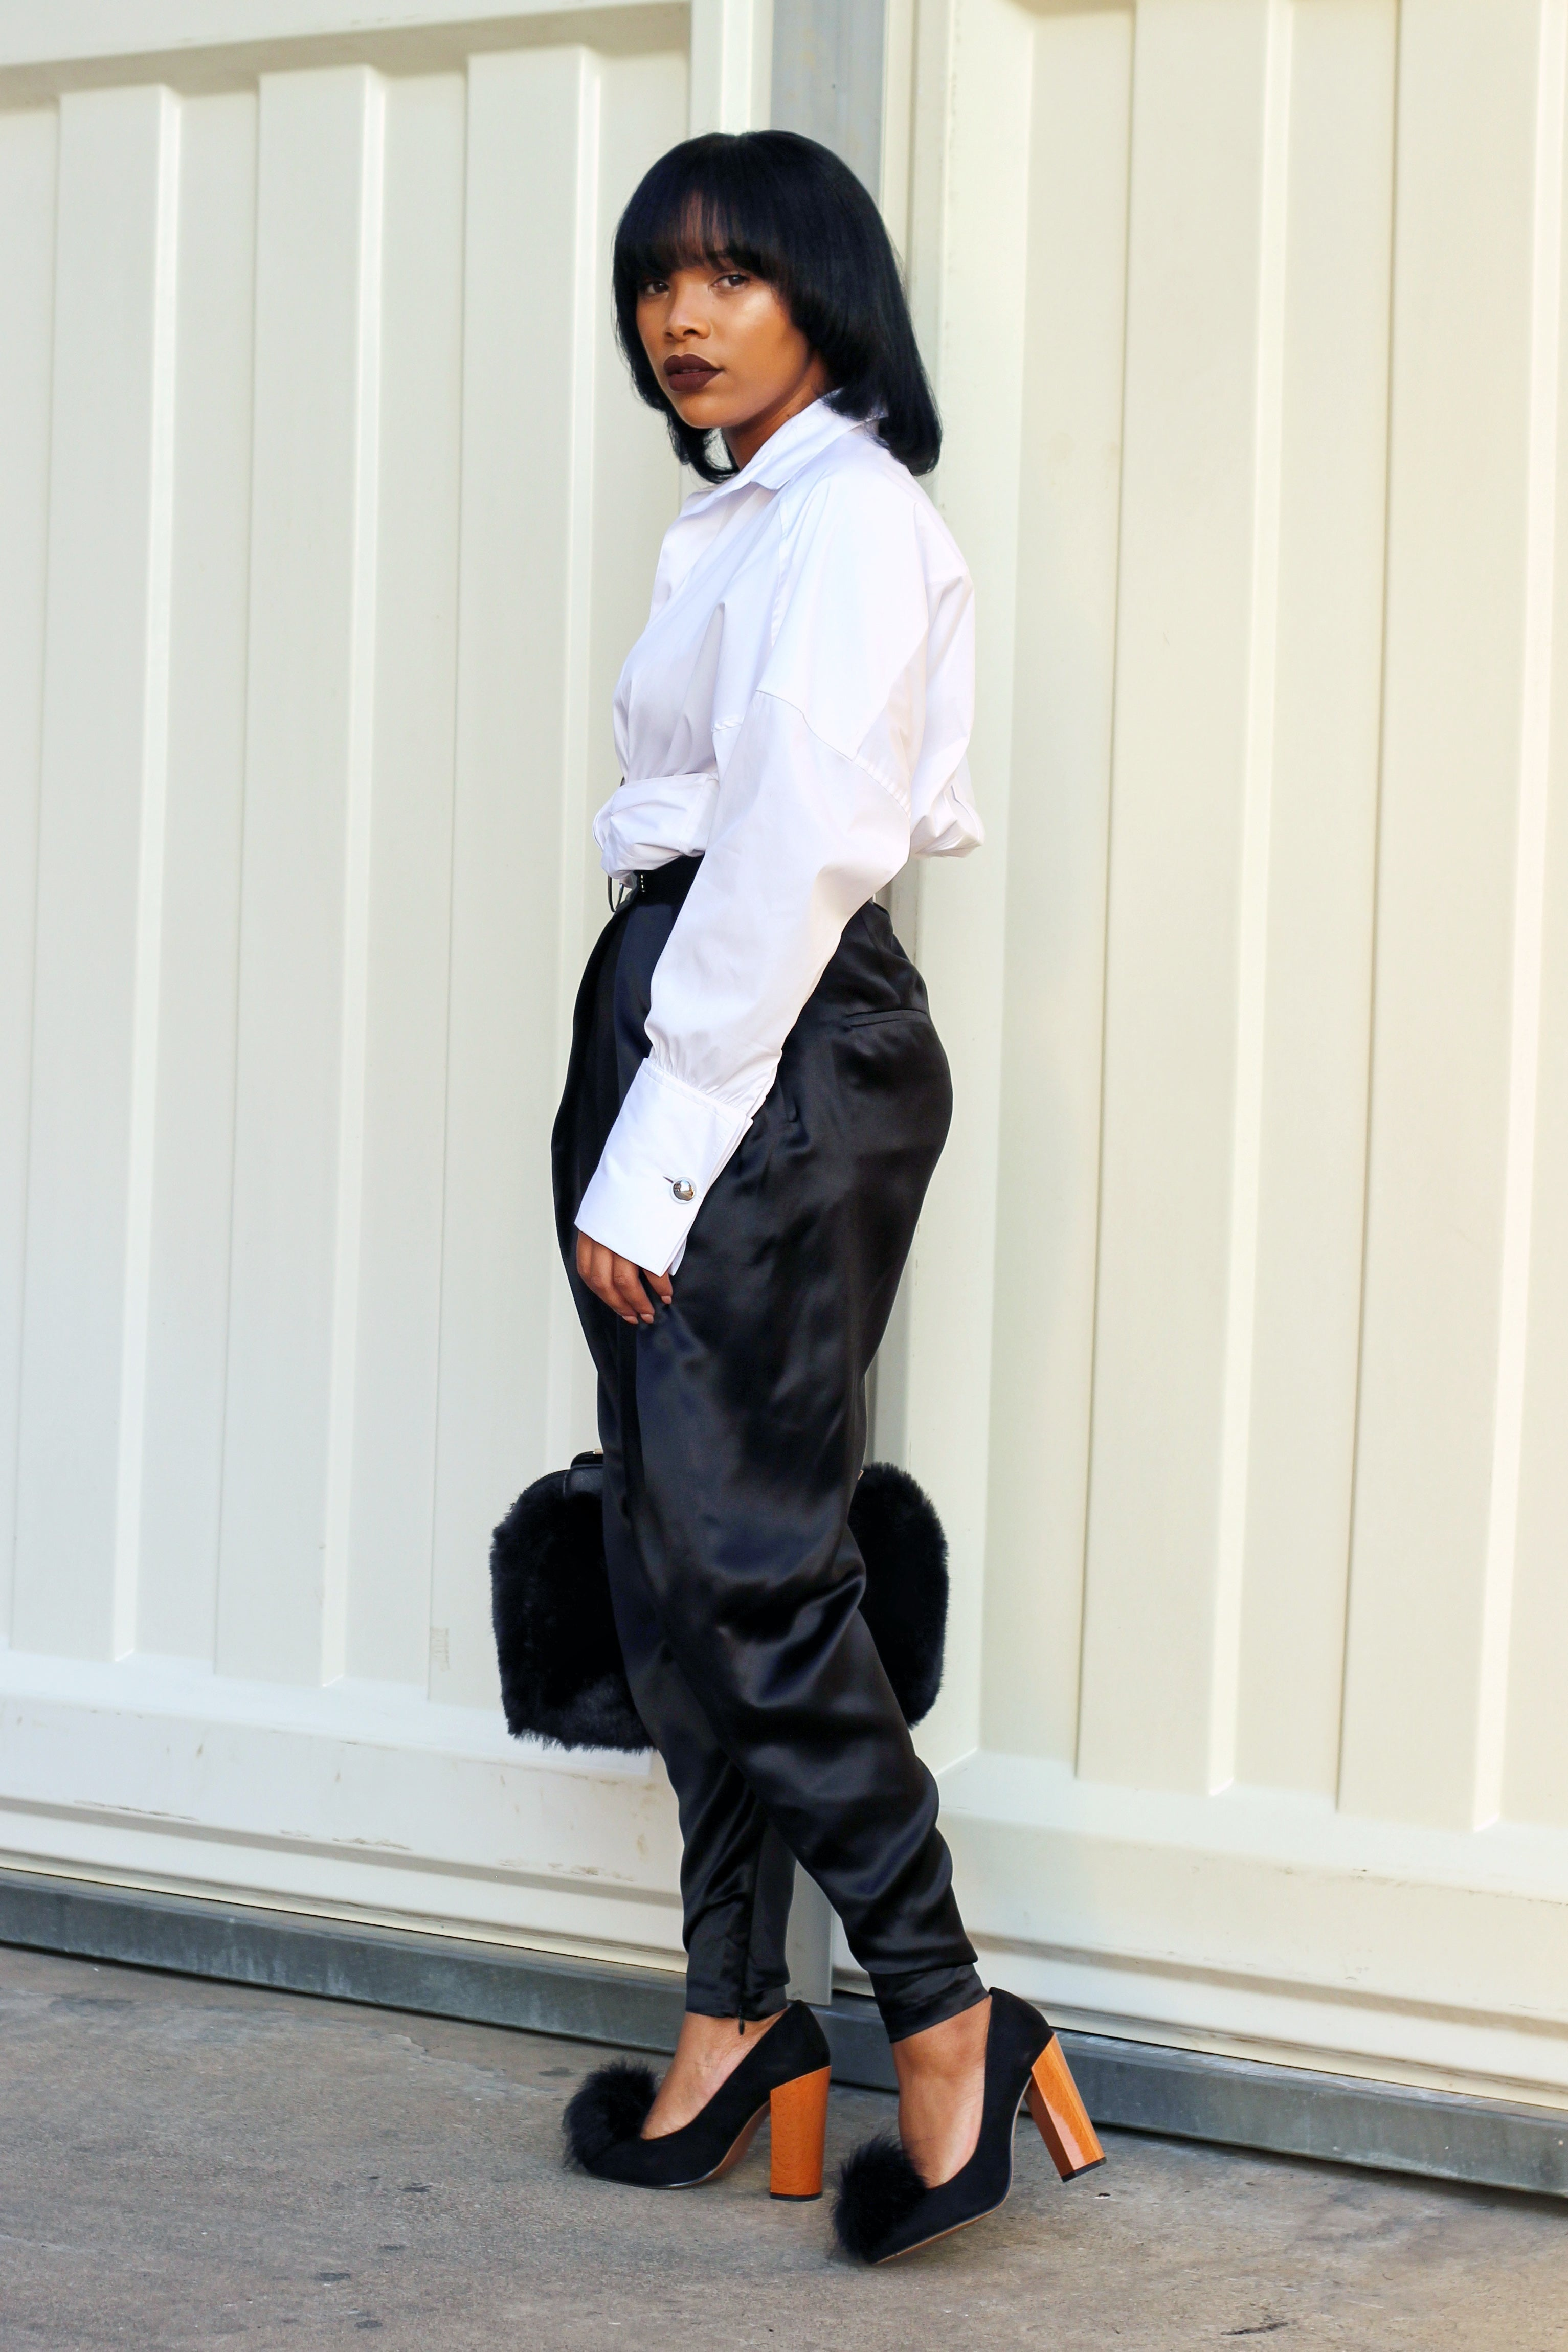mouth: (658, 353, 723, 394)
nose: (660, 317, 710, 339)
